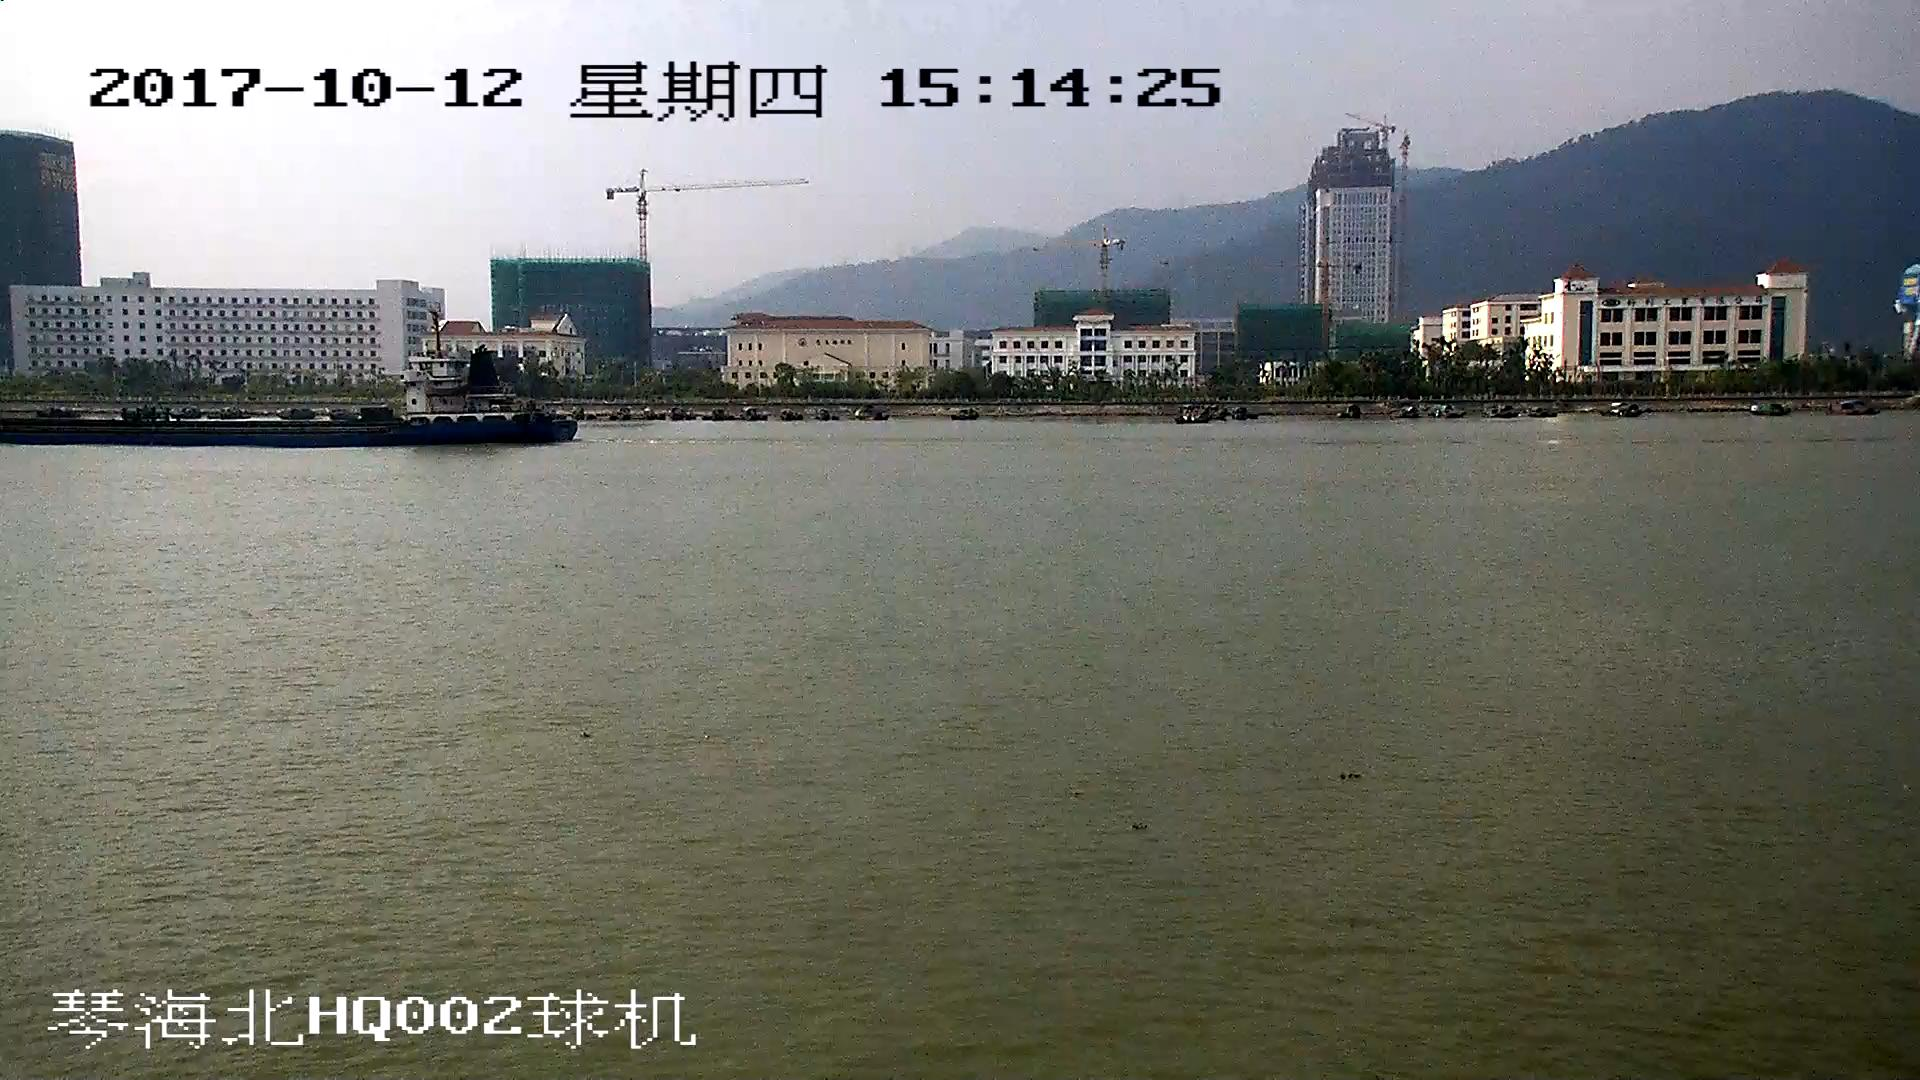general cargo ship: (1, 328, 578, 443)
